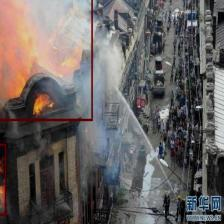fire: (0, 0, 92, 120), (0, 143, 6, 215)
